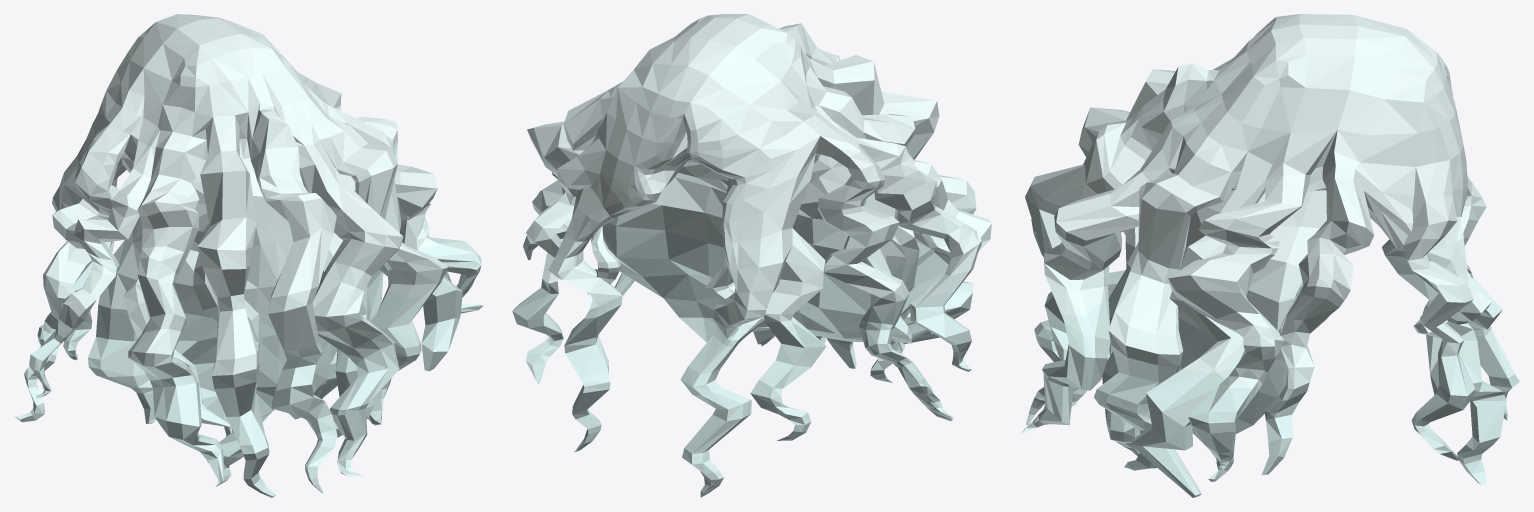
File: CharSkyKid_Hair_Witch.glb
The picture shows the model from 3 angles, left to right: view 1: azimuth 30°, elevation 25°; view 2: azimuth 150°, elevation 25°; view 3: azimuth 270°, elevation 25°; orthographic projection. The views are drawn at different scales.
Visible parts, largest first — view 1: CharSkyKid_Hair_Witch; view 2: CharSkyKid_Hair_Witch; view 3: CharSkyKid_Hair_Witch.
Part boxes in pixels (bbox=[...]): CharSkyKid_Hair_Witch: bbox=[14, 14, 483, 497]; CharSkyKid_Hair_Witch: bbox=[512, 14, 991, 497]; CharSkyKid_Hair_Witch: bbox=[1020, 14, 1519, 497].
Bounding box in the file's own units: 8.03 × 6.79 × 7.13.
1 material, 1 textured.
